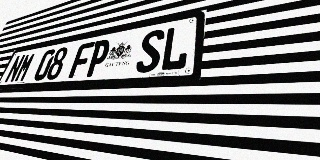0: (32, 49, 57, 81)
8: (44, 46, 70, 80)
F: (68, 41, 95, 78)
L: (159, 24, 191, 71)
M: (13, 52, 37, 82)
N: (3, 54, 26, 83)
P: (84, 38, 112, 77)
S: (134, 28, 166, 73)
